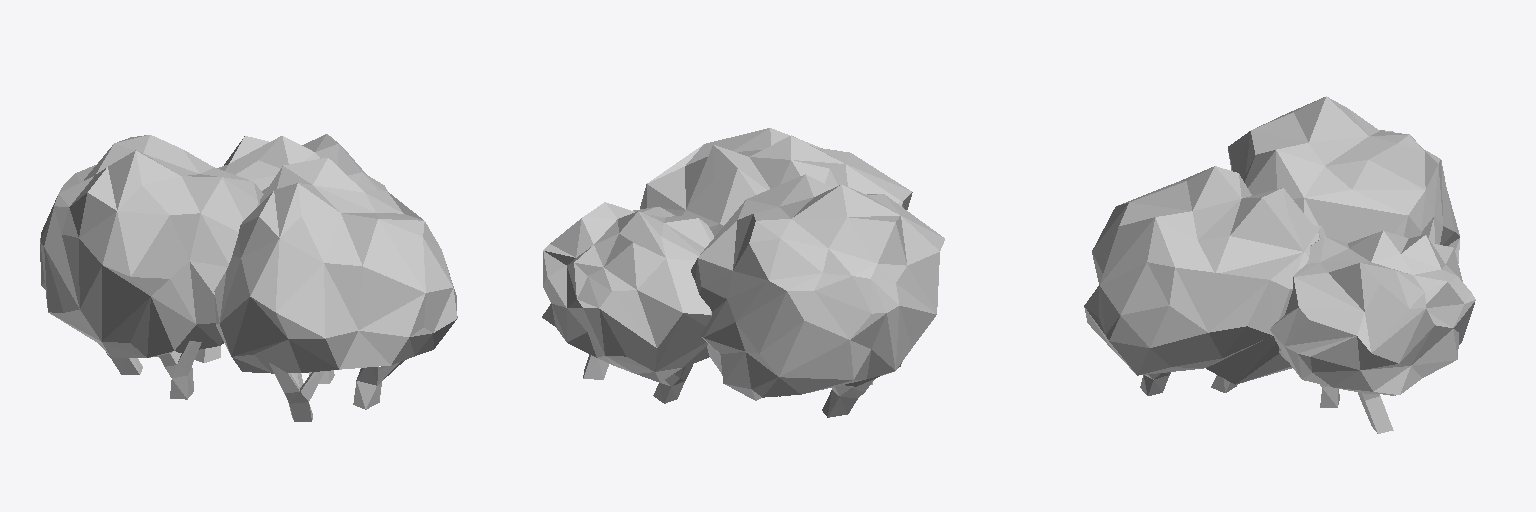
Rendered from bush.obj.
3 renders of one model, left to right at view 1: azimuth 30°, elevation 25°; view 2: azimuth 150°, elevation 25°; view 3: azimuth 270°, elevation 25°, orthographic.
Parts seen in each view (by area): view 1: Bush_group_big_Plane.138; view 2: Bush_group_big_Plane.138; view 3: Bush_group_big_Plane.138.
Part boxes in pixels (bbox=[...]): Bush_group_big_Plane.138: bbox=[40, 134, 457, 421]; Bush_group_big_Plane.138: bbox=[542, 128, 944, 417]; Bush_group_big_Plane.138: bbox=[1084, 96, 1475, 433].
Size of the model in its own units: 6.84 by 4.25 by 6.72.